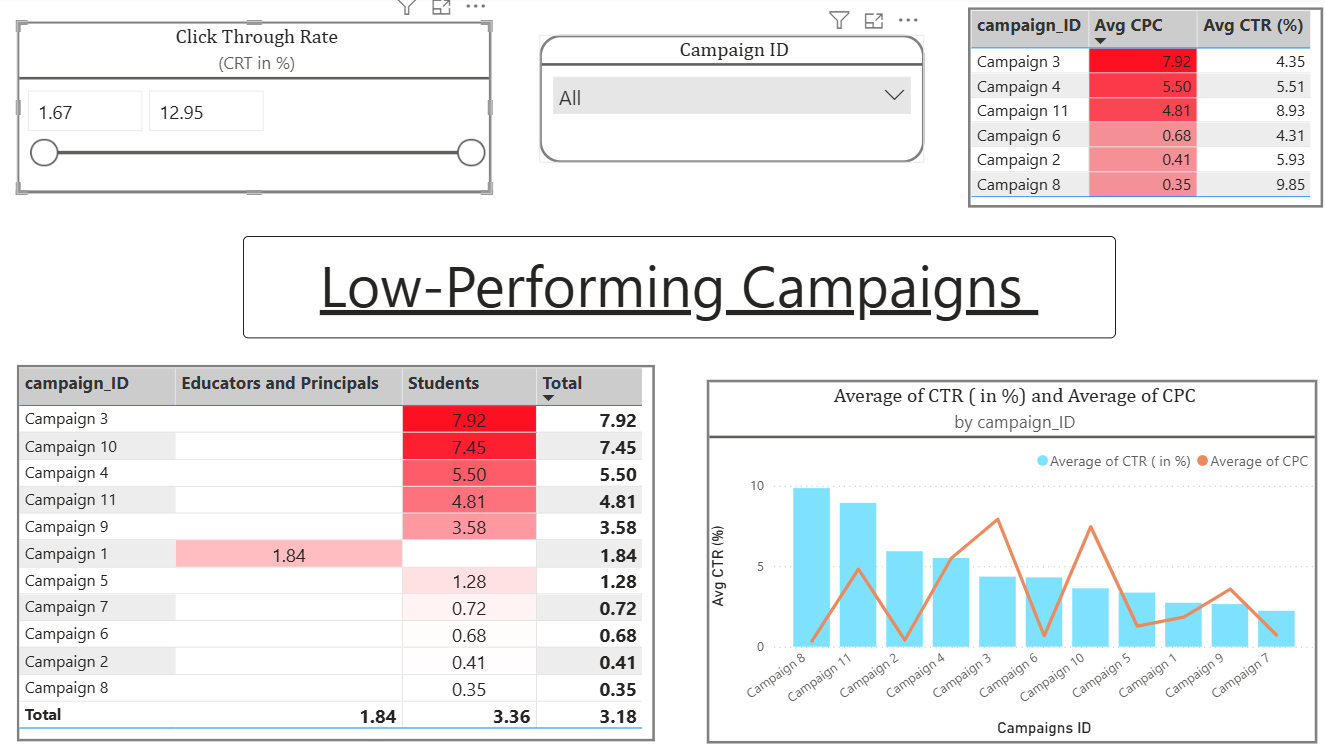

The dashboard page shown, as its layout file describes it:
{"tool":"powerbi","page":{"name":"Worst Performing Campaigns","canvas":[1280,720],"ordinal":2},"visuals":[{"type":"tableEx","title":"Worst Performing Campaigns","fields":{"Values":["Marketing Team Data - Sheet1.campaign_ID","Avg(Marketing Team Data - Sheet1.Cost_Per_Click (CPC))","Avg(Marketing Team Data - Sheet1.Click_Through_Rate (CTR in %))"]},"box":[911.7,10,330,186.7],"z":0},{"type":"pivotTable","title":"CTR Heatmap: Campaign vs. Audience","fields":{"Columns":["Marketing Team Data - Sheet1.Audience"],"Rows":["Marketing Team Data - Sheet1.campaign_ID"],"Values":["Avg(Marketing Team Data - Sheet1.Cost_Per_Click (CPC))"]},"box":[26.7,343.3,593.3,350],"z":1000},{"type":"slicer","title":"Click Through Rate","fields":{"Values":["Marketing Team Data - Sheet1.Click_Through_Rate (CTR in %)"]},"box":[26.7,23.3,441.7,160],"z":2000},{"type":"textbox","box":[236.7,223.3,811.7,95],"z":3000},{"type":"lineClusteredColumnComboChart","fields":{"Category":["Marketing Team Data - Sheet1.campaign_ID"],"Y":["Avg(Marketing Team Data - Sheet1.Click_Through_Rate (CTR in %))"],"Y2":["Avg(Marketing Team Data - Sheet1.Cost_Per_Click (CPC))"]},"box":[668.3,356.7,568.3,338.3],"z":4000},{"type":"slicer","title":"Campaign ID","fields":{"Values":["Marketing Team Data - Sheet1.campaign_ID"]},"box":[512.9,35.5,358.1,119.4],"z":5000}]}

Visuals, with their boxes in screenshot pixels (x1, y1, x2, y2), scaled from the page's 1280x720 canvas onto the 1325x755 screenshot:
"Worst Performing Campaigns" tableEx: 944,10,1285,206
"CTR Heatmap: Campaign vs. Audience" pivotTable: 28,360,642,727
"Click Through Rate" slicer: 28,24,485,192
textbox: 245,234,1085,334
lineClusteredColumnComboChart - Marketing Team Data - Sheet1.campaign_ID x Avg(Marketing Team Data - Sheet1.Click_Through_Rate (CTR in %)): 692,374,1280,729
"Campaign ID" slicer: 531,37,902,162
